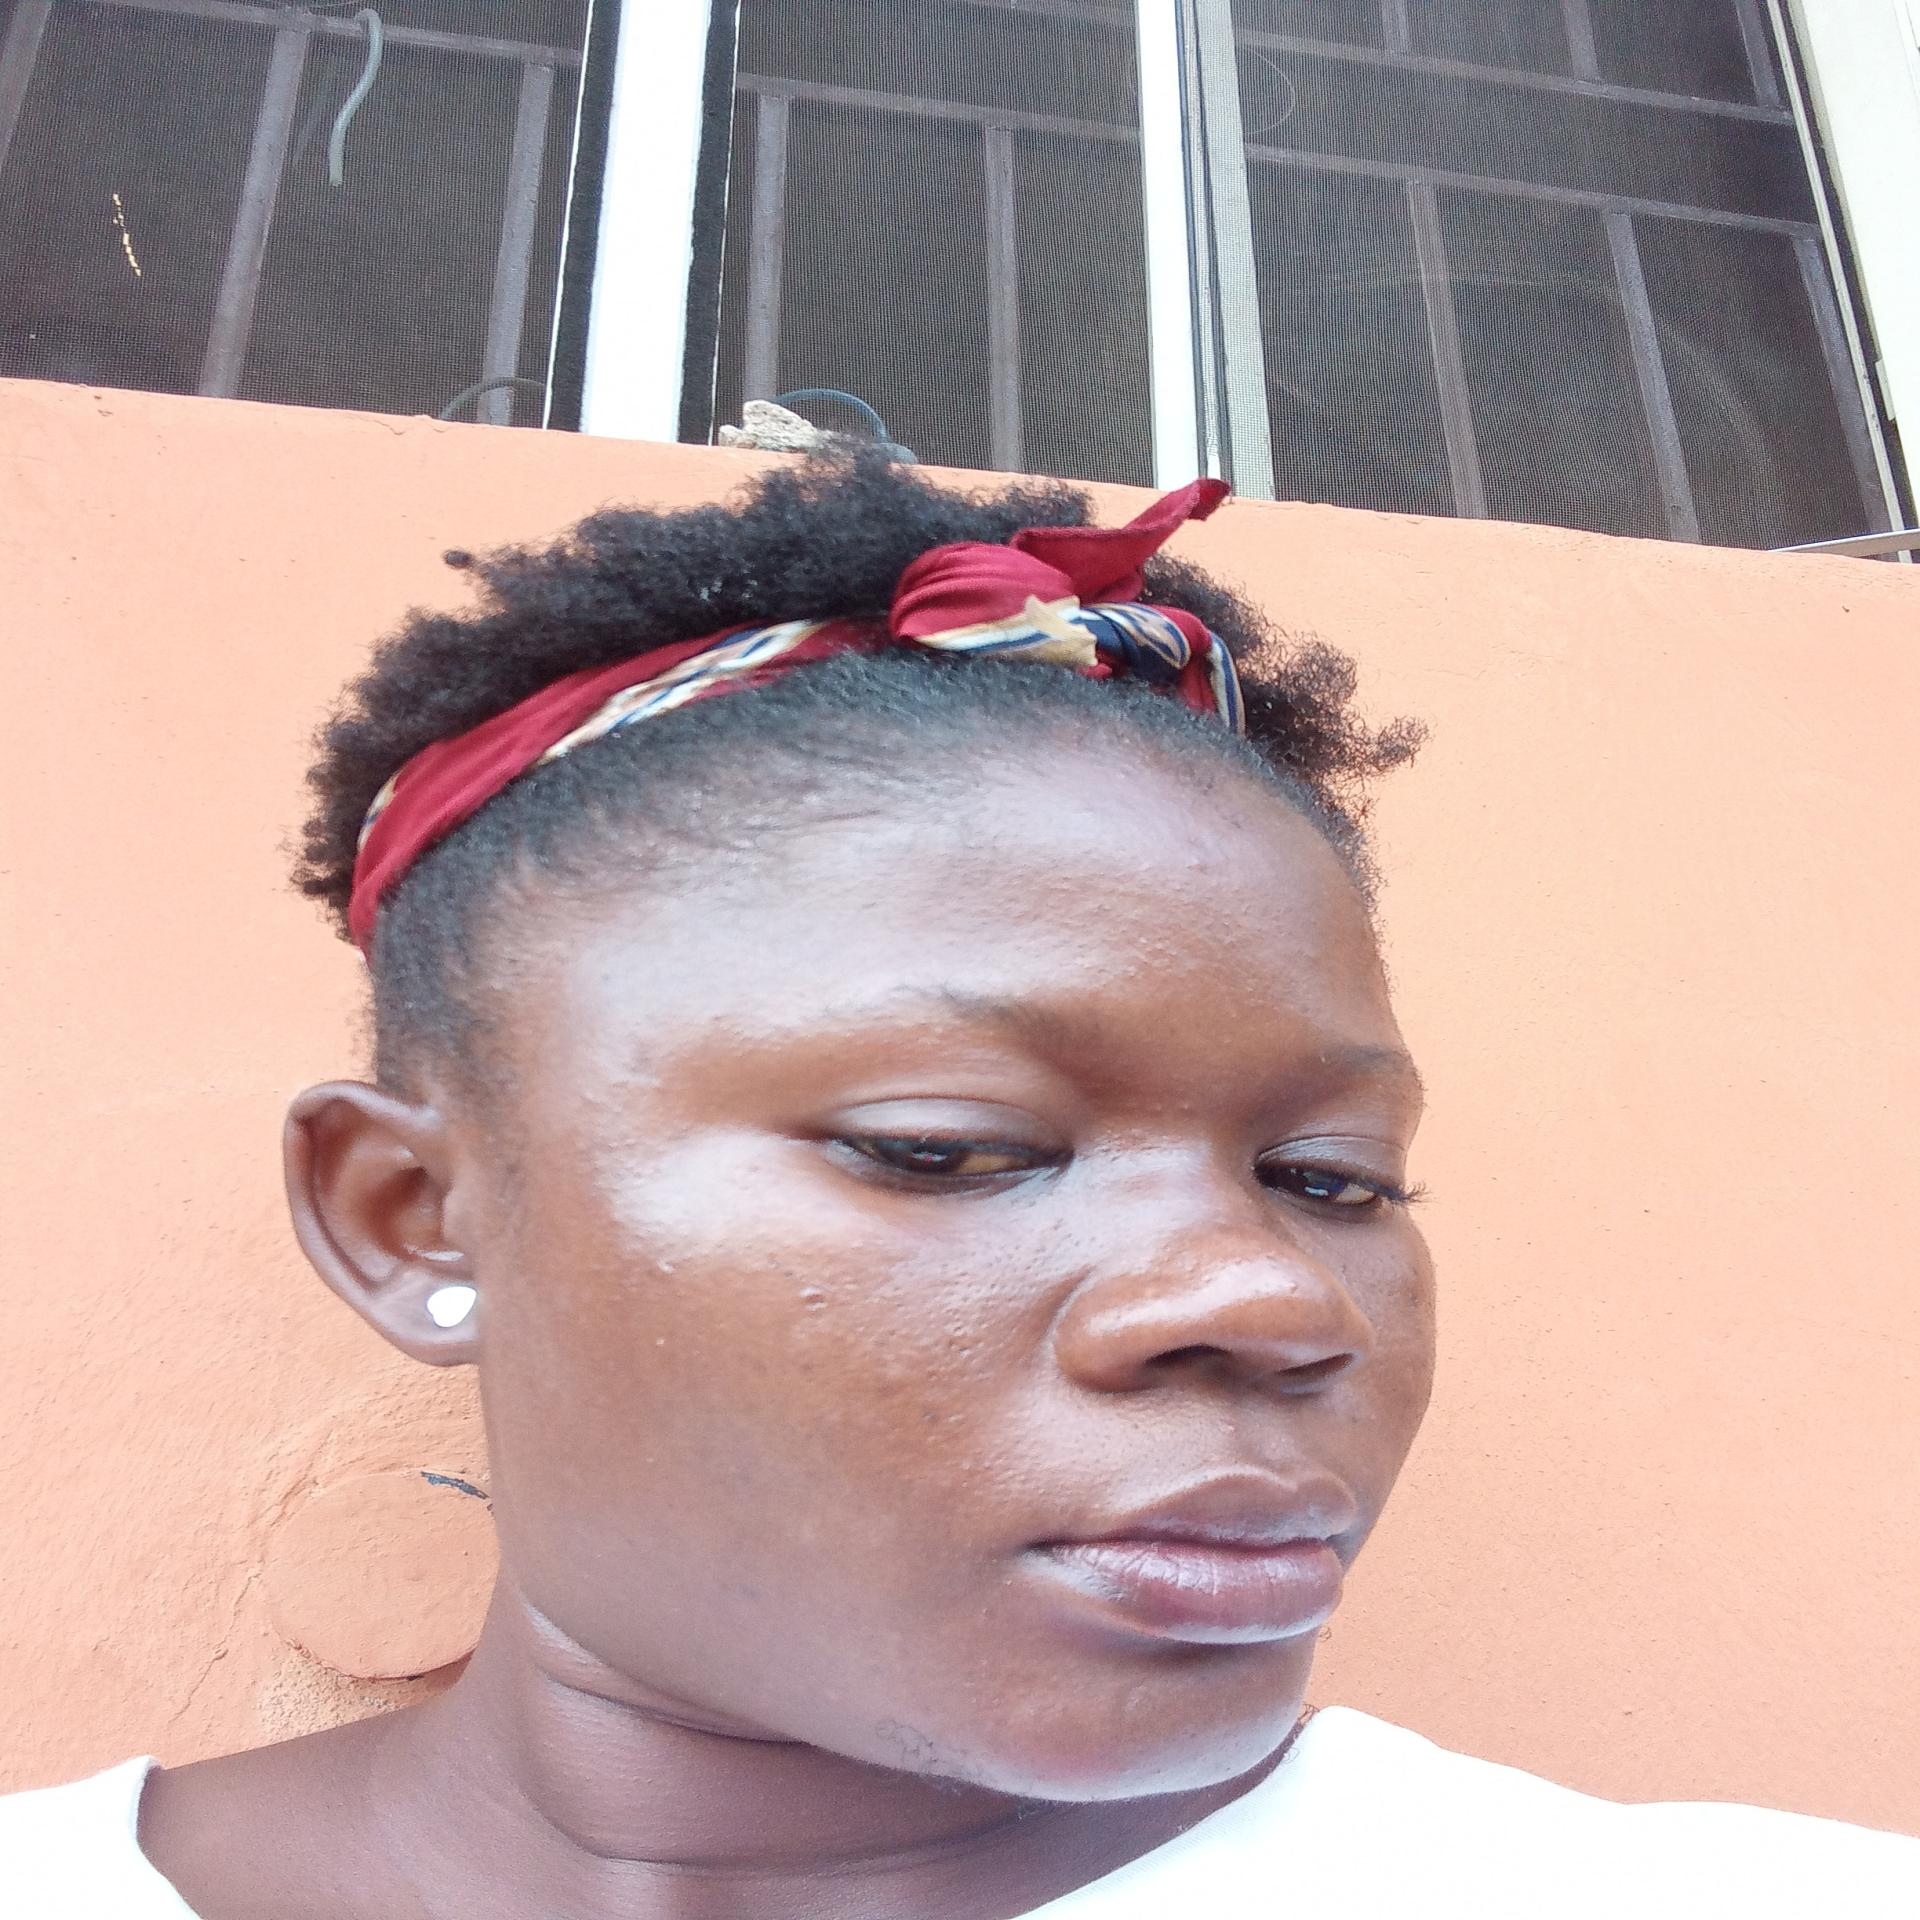Acne: (573, 1030, 686, 1109), (1090, 1122, 1155, 1160), (795, 1284, 842, 1317), (649, 1254, 687, 1285), (1208, 1415, 1252, 1442), (1187, 849, 1215, 877), (1280, 1271, 1305, 1298), (1173, 1092, 1196, 1118)
Blackhead: (1076, 897, 1189, 992), (1203, 877, 1282, 942)
Englarged Pores: (867, 1218, 1101, 1384), (1343, 1259, 1435, 1312)
